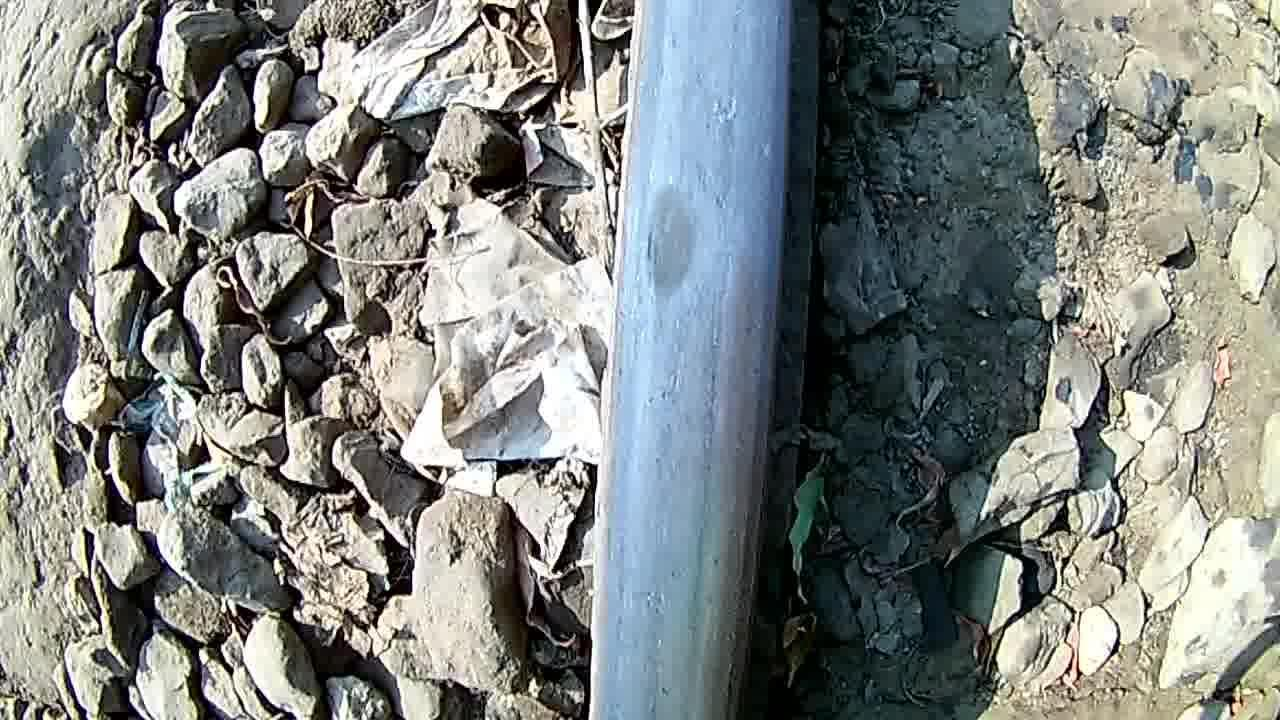crack: (610, 116, 769, 386)
